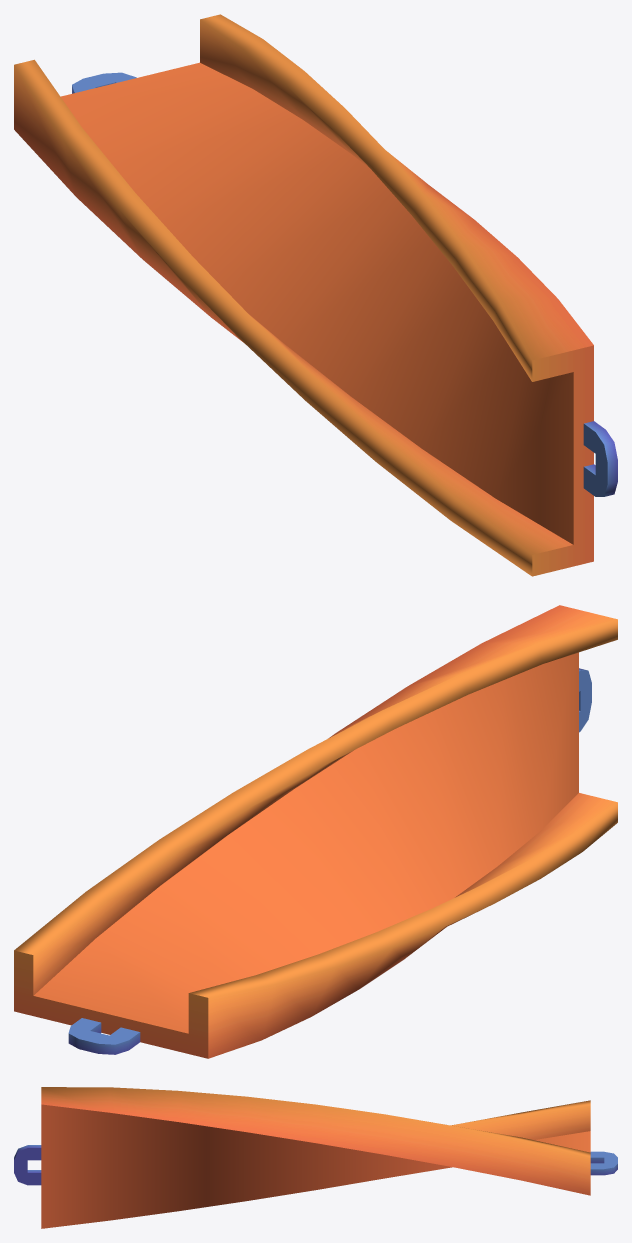
Rendered from track-narrow-straight-skew-right-side.glb.
3 renders of one model, top to bottom at view 1: azimuth 30°, elevation 25°; view 2: azimuth 150°, elevation 25°; view 3: azimuth 270°, elevation 25°, orthographic. The views are drawn at different scales.
Parts seen in each view (by area): view 1: track-narrow-straight-skew-right-side; view 2: track-narrow-straight-skew-right-side; view 3: track-narrow-straight-skew-right-side.
Boxes of the visible parts, x1=… form: track-narrow-straight-skew-right-side: x1=14, y1=14, x2=617, y2=576; track-narrow-straight-skew-right-side: x1=14, y1=605, x2=617, y2=1058; track-narrow-straight-skew-right-side: x1=14, y1=1087, x2=617, y2=1228.
Bounding box in the file's own units: 1.08 × 1.08 × 4.4.
Materials: 1 (1 with a texture image).
